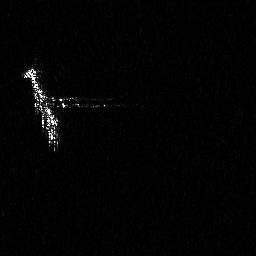ship: (21, 60, 128, 153)
